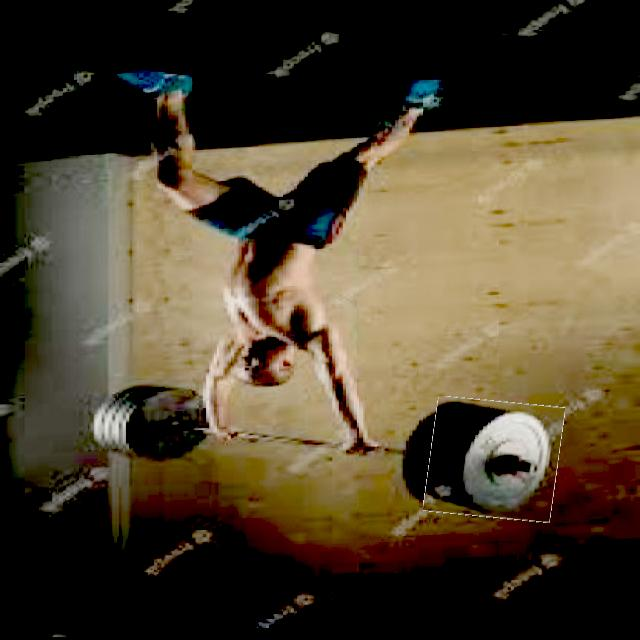barbell: (427, 401, 563, 529)
